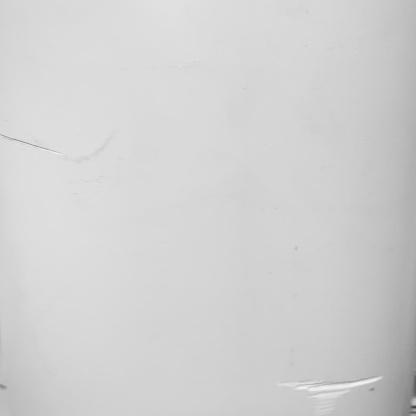sunshang: (275, 371, 386, 415), (1, 128, 73, 155)
